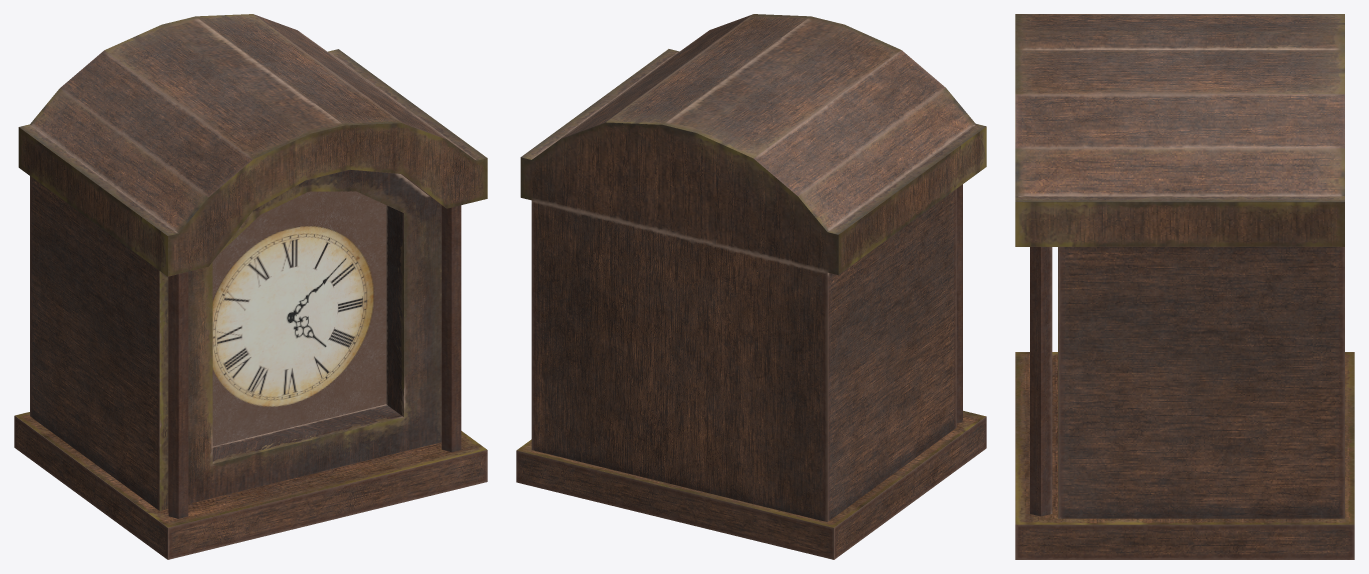
File: kake_tokei.fbx
The picture shows the model from 3 angles, left to right: view 1: azimuth 30°, elevation 25°; view 2: azimuth 150°, elevation 25°; view 3: azimuth 270°, elevation 25°; orthographic projection. The views are drawn at different scales.
Visible parts, largest first — view 1: kake_tokei; view 2: kake_tokei; view 3: kake_tokei.
Boxes of the visible parts, x1,y1,x2,y2 form: kake_tokei: [14, 14, 487, 559]; kake_tokei: [516, 14, 986, 559]; kake_tokei: [1015, 14, 1354, 559].
Size of the model in its own units: 3.65 by 4.27 by 3.03.
